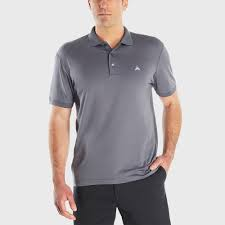C_polo shirt: (40, 29, 189, 179)
